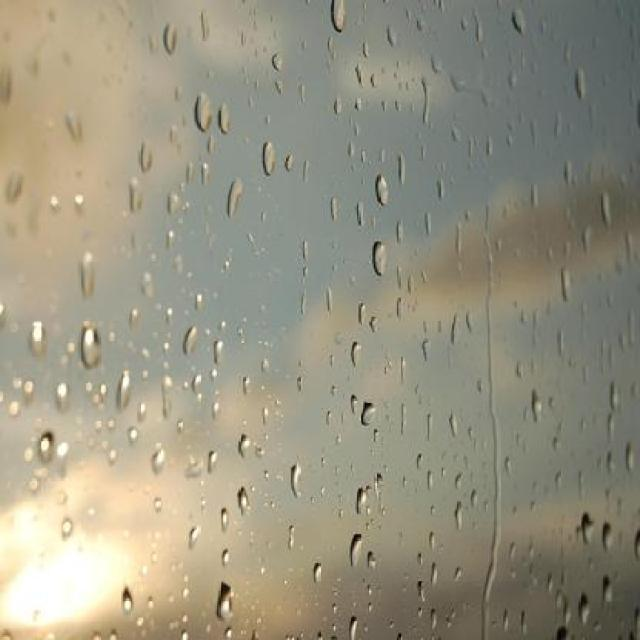raindrop: (207, 578, 252, 628), (361, 234, 401, 288), (72, 237, 102, 305), (550, 254, 584, 314), (152, 362, 184, 425), (446, 486, 479, 544), (76, 310, 105, 374), (311, 0, 355, 42), (413, 62, 439, 132), (230, 471, 264, 522), (231, 412, 263, 466), (344, 526, 372, 586), (369, 156, 397, 216), (351, 388, 389, 432), (341, 326, 372, 379), (23, 310, 52, 366), (506, 0, 544, 42), (326, 607, 374, 640), (48, 506, 90, 542), (306, 552, 334, 606), (282, 463, 314, 510), (258, 123, 280, 190), (189, 86, 214, 144), (571, 59, 600, 108), (344, 473, 374, 519), (223, 158, 242, 230), (130, 132, 158, 180), (147, 434, 175, 482), (112, 358, 134, 418), (524, 382, 550, 432), (215, 533, 248, 572), (31, 425, 58, 469), (115, 580, 141, 624), (578, 504, 600, 554), (596, 188, 621, 232), (158, 14, 180, 62), (352, 59, 373, 96), (428, 604, 449, 640), (179, 327, 202, 358), (578, 592, 591, 640)
